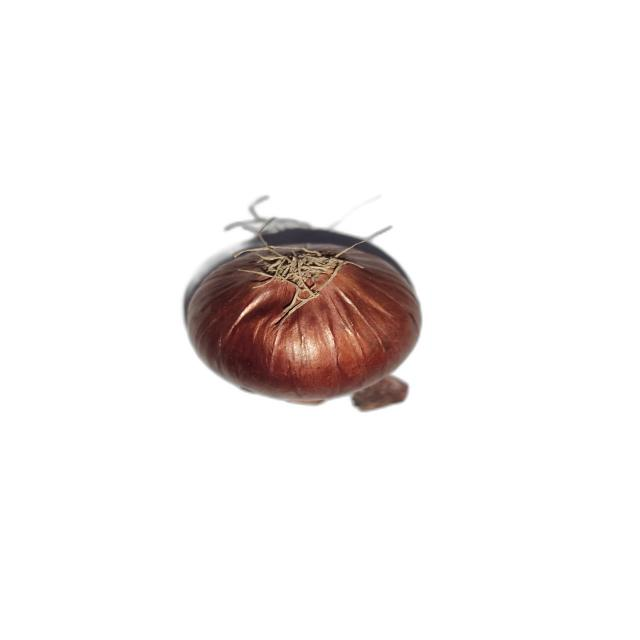onion: (185, 218, 423, 412)
